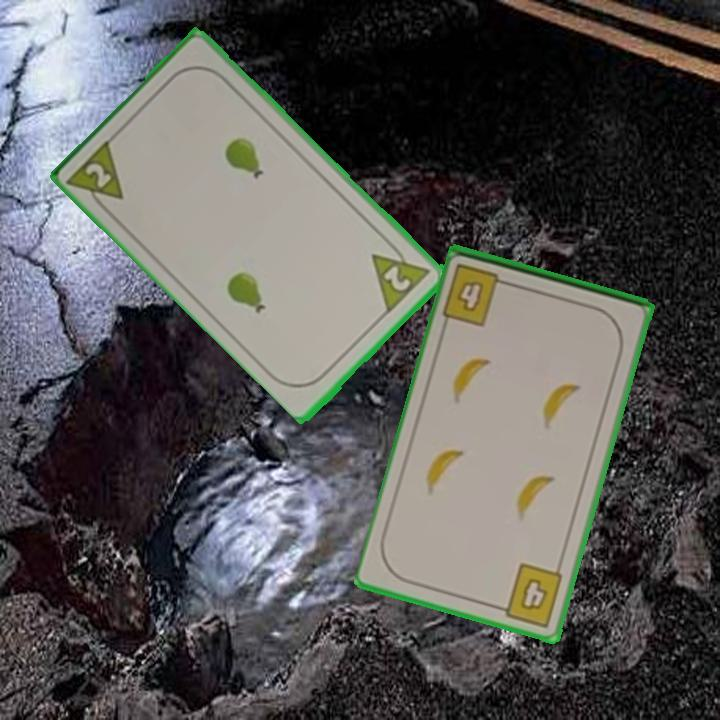2p: (65, 134, 128, 218), (368, 236, 434, 314)
4b: (439, 259, 515, 329), (492, 559, 566, 630)
